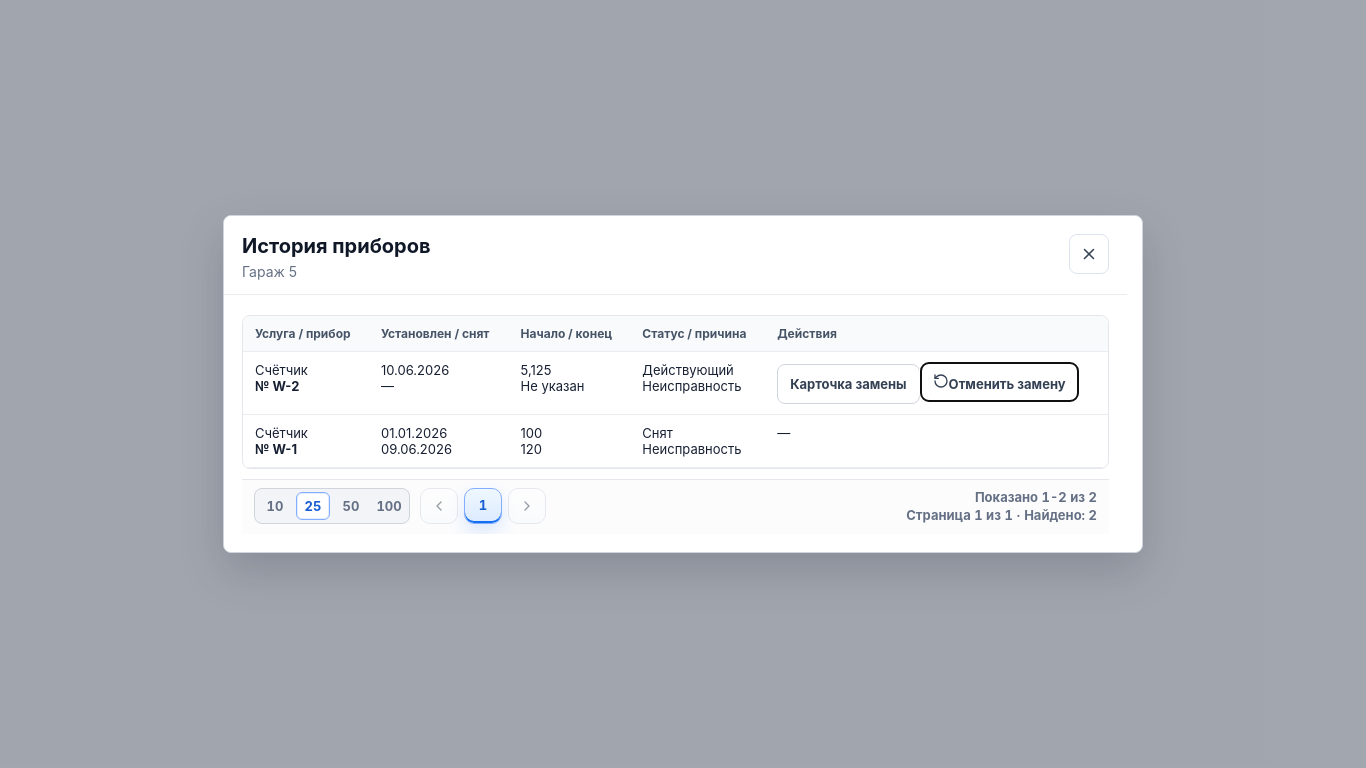
Test case: focuses the cancellation reason and restores the selected row after Escape
The width and height of the screenshot is (1366, 768).
Click the button with aria-label "Отменить замену на" at (999, 382), box x1=920 y1=362 x2=1079 y2=402
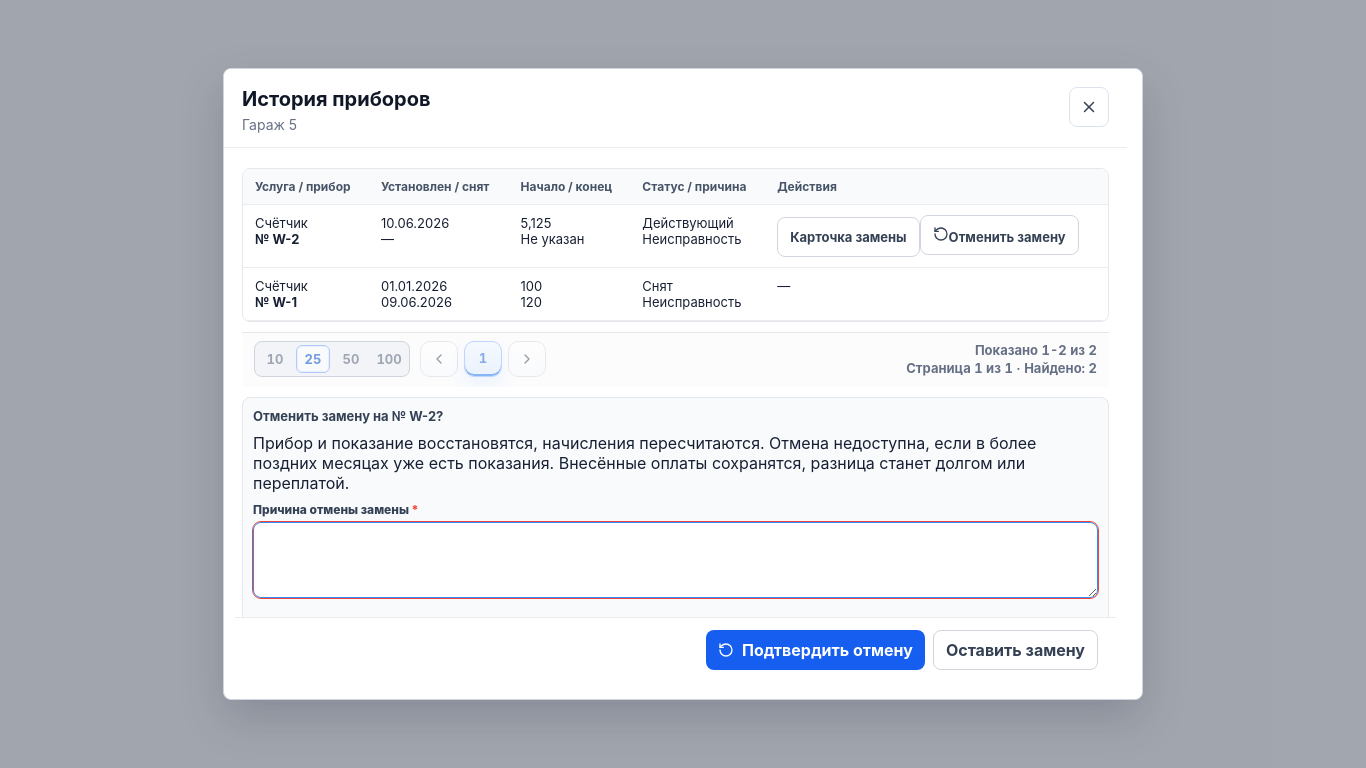
Press Escape
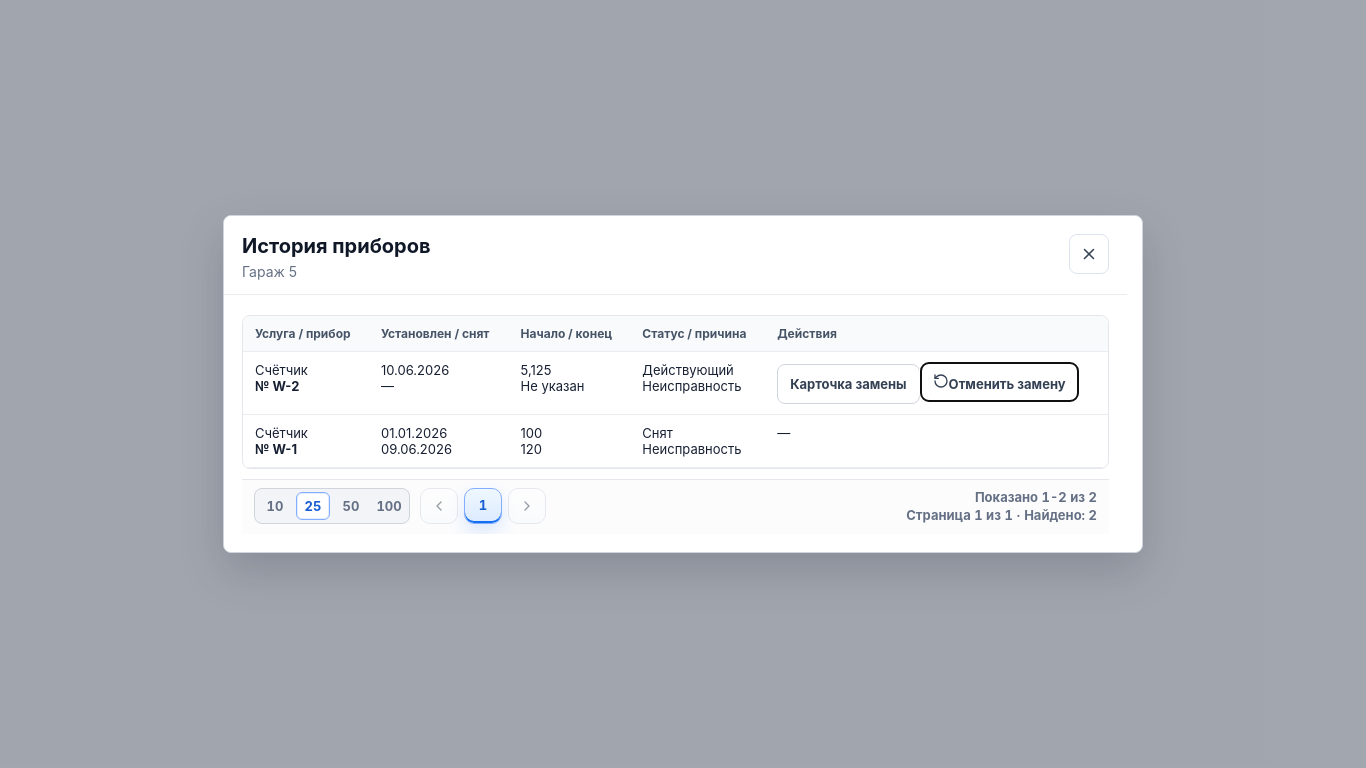
Expected: the text labelled "Причина отмены замены" is gone
